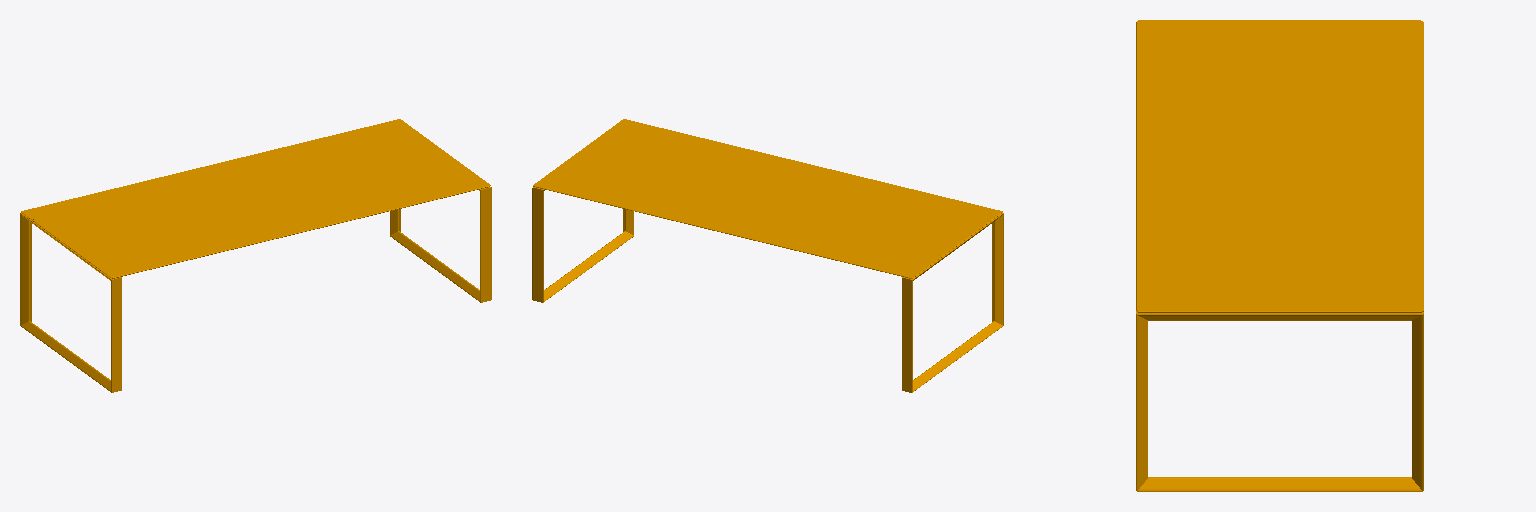
URDF robot description (242b7dde571b99bd3002761e7a3ba3bd):
<?xml version="1.0" ?>
<robot name="242b7dde571b99bd3002761e7a3ba3bd" version="1.0">
  <link name="base_link">
    <inertial>
      <origin rpy="0.0 0.0 0.0" xyz="0.0 0.0 0.0"/>
      <mass value="17.080843221491698"/>
      <inertia ixx="0.001" ixy="0.0" ixz="0.0" iyy="0.001" iyz="0.0" izz="0.001"/>
    </inertial>
    <visual name="242b7dde571b99bd3002761e7a3ba3bd___2">
      <origin rpy="0.0 0.0 0.0" xyz="0.0 -0.0 0.0"/>
      <geometry>
        <mesh filename="shape/visual/242b7dde571b99bd3002761e7a3ba3bd_m2_vm.obj"/>
      </geometry>
    </visual>
    <visual name="242b7dde571b99bd3002761e7a3ba3bd___1">
      <origin rpy="0.0 0.0 0.0" xyz="0.0 -0.0 0.0"/>
      <geometry>
        <mesh filename="shape/visual/242b7dde571b99bd3002761e7a3ba3bd_m1_vm.obj"/>
      </geometry>
    </visual>
    <collision>
      <origin rpy="0.0 0.0 0.0" xyz="0.0 -0.0 0.0"/>
      <geometry>
        <mesh filename="shape/collision/242b7dde571b99bd3002761e7a3ba3bd_cm.obj"/>
      </geometry>
    </collision>
  </link>
</robot>

--- What the picture shows (computed from the rendered views, not written in the file) ---
The picture shows the robot from 3 angles, left to right: view 1: azimuth 30°, elevation 25°; view 2: azimuth 150°, elevation 25°; view 3: azimuth 270°, elevation 25°; orthographic projection.
Model 242b7dde571b99bd3002761e7a3ba3bd with 1 links and 0 joints (none), rooted at base_link, posed all joints at 0.
Links seen in each view (by area): view 1: base_link; view 2: base_link; view 3: base_link.
Link boxes in pixels (x1,y1,x2,y2): base_link: [20, 119, 491, 392]; base_link: [532, 119, 1003, 392]; base_link: [1136, 20, 1423, 491].
Bounding box of the posed robot: 0.8919 × 0.3716 × 0.2577 m (x, y, z).
Meshes: 2 distinct files referenced, 2 mesh visuals loaded (2 OBJ).